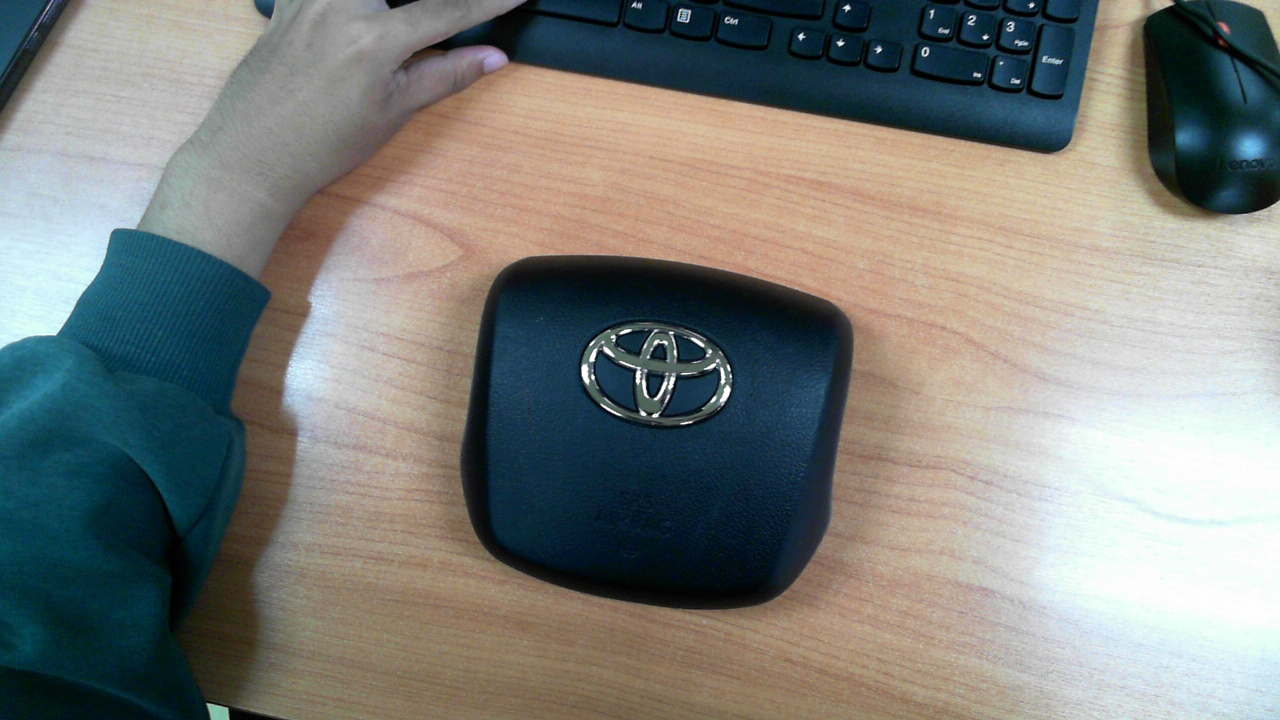Airbag: (459, 254, 855, 612)
Toyota: (580, 321, 733, 427)
